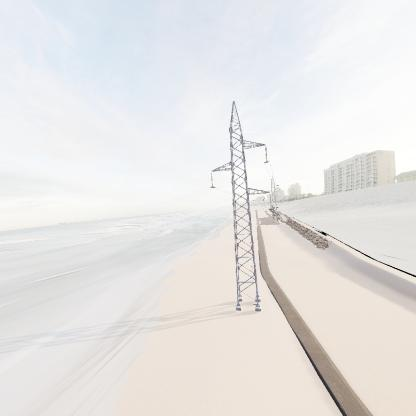tower: (206, 98, 276, 322)
